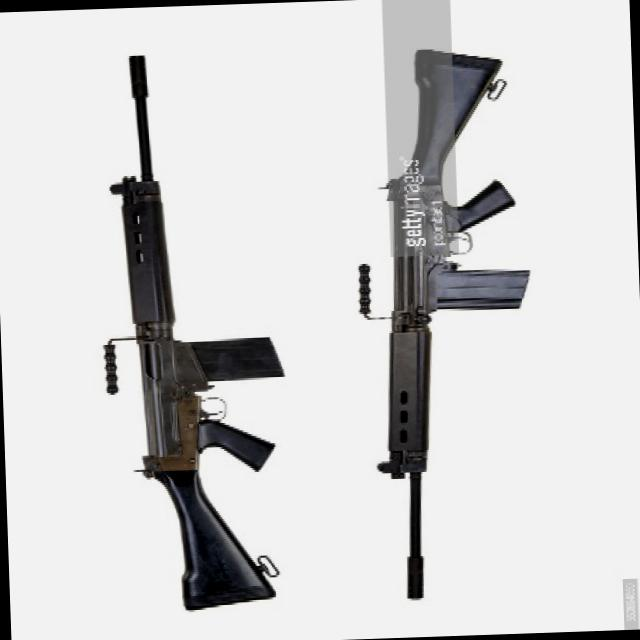long weapon: (322, 37, 550, 618), (69, 38, 292, 630)
